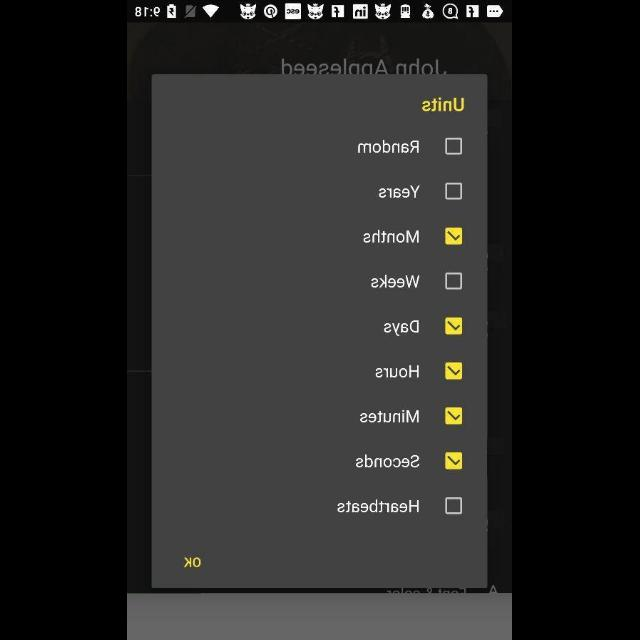checkbox: (446, 227, 464, 245), (446, 138, 464, 154), (446, 182, 462, 200), (446, 272, 462, 290), (446, 318, 464, 334), (446, 362, 462, 380), (446, 452, 462, 470), (446, 497, 462, 515), (446, 408, 462, 424)
panel: (152, 75, 488, 588)
text: (282, 58, 448, 74), (338, 499, 420, 513), (356, 454, 420, 468), (357, 140, 419, 154), (363, 230, 419, 244), (360, 410, 420, 422), (421, 97, 465, 113), (372, 274, 421, 288), (375, 364, 419, 378), (384, 319, 420, 336), (379, 186, 421, 198)
textbutton: (184, 556, 202, 568)
uppertaskbar: (128, 1, 512, 23)
